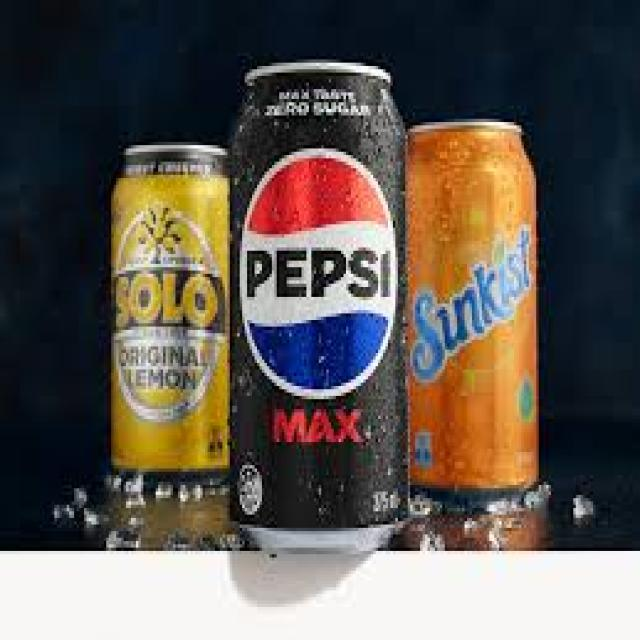Cans: (222, 53, 410, 564), (400, 106, 546, 518), (104, 135, 235, 492)
